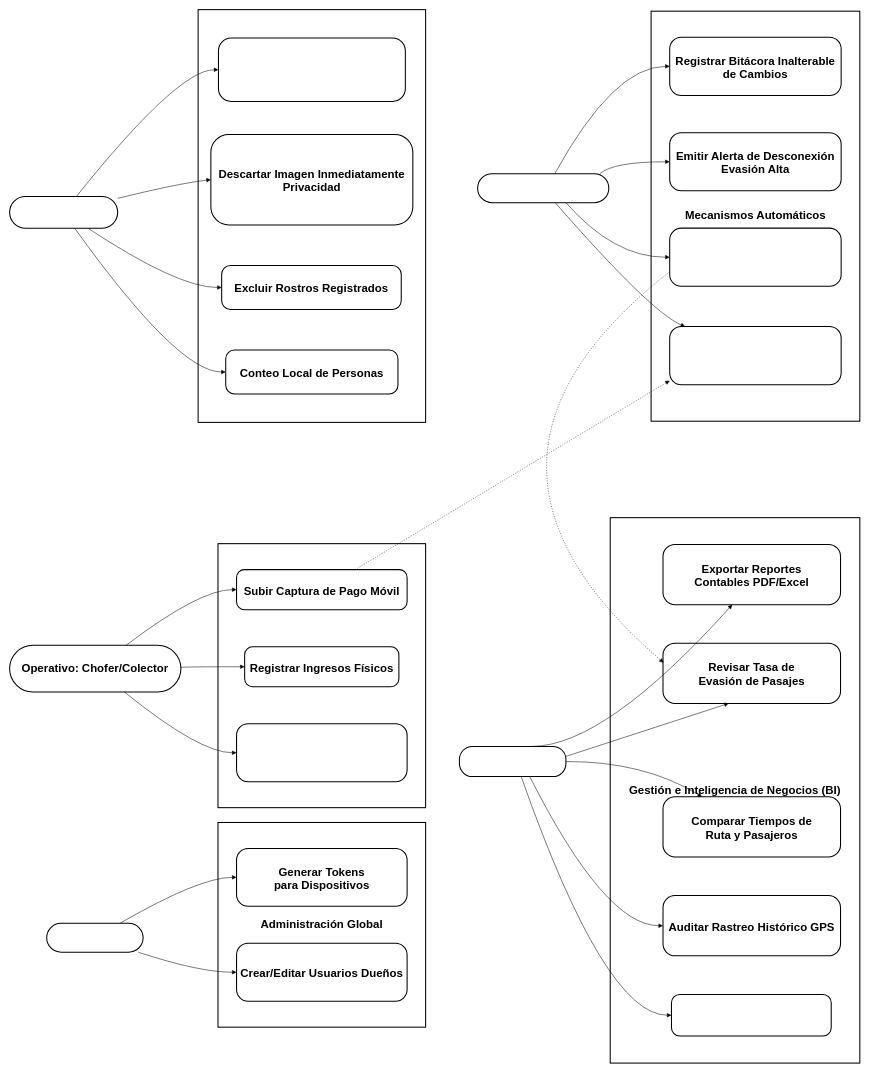
The diagram is 869 pixels wide and 1072 high, and some of its shapes have lost their labels. Each missing label, with the centre of its shape:
"Administrador" belongs at [94,937].
"Analizar Capturas de Pago con IA" belongs at [755,355].
"Cruzar Conteo de Cámara con Recaudado" belongs at [755,257].
"Dispositivo IoT" belongs at [63,212].
"Dueño de Flota" belongs at [512,761].
"Gestionar Flota y Bancos" belongs at [751,1015].
"Instalar App en el Teléfono - PWA" belongs at [321,752].
"Procesos de Sistema" belongs at [543,188].
"Sincronizar Metadata via API" belongs at [312,69].
